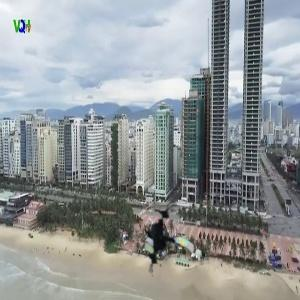drone: (129, 204, 203, 278)
